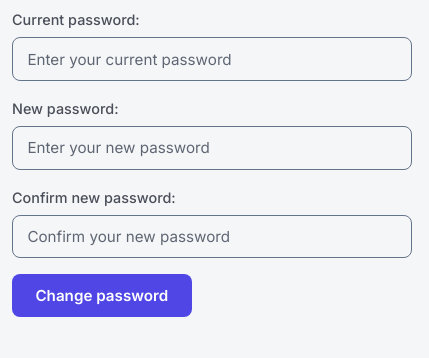
it: ChangePasswordForm › client-side validation › keeps showing a stale confirmation-mismatch error after editing the new password to actually match it
This screenshot has width=429, height=358.
Type "oldsecret" into the password field labelled "Current password:" at (212, 59), box [12, 37, 412, 81]
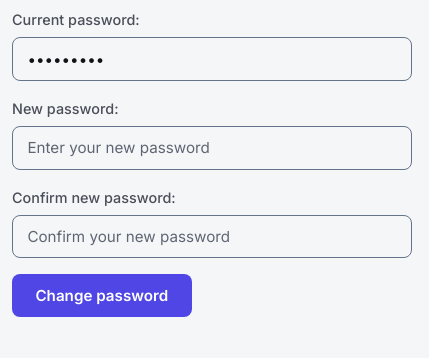
Type "firstvalue" into the password field labelled "New password:" at (212, 148), box [12, 126, 412, 170]
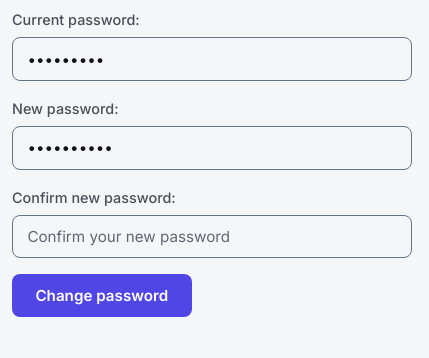
Type "secondvalue" into the password field labelled "Confirm new password:" at (212, 237), box [12, 215, 412, 258]
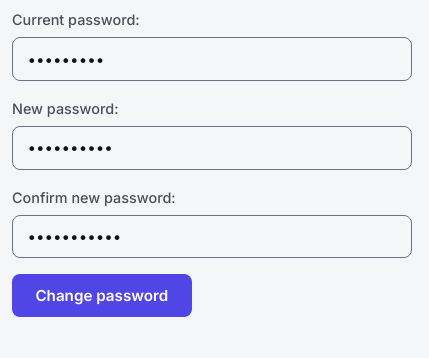
Click the button "Change password" at (102, 296), box [12, 274, 192, 317]
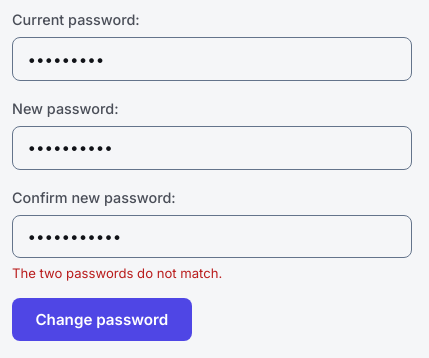
Type "secondvalue" into the password field labelled "New password:" at (212, 148), box [12, 126, 412, 170]
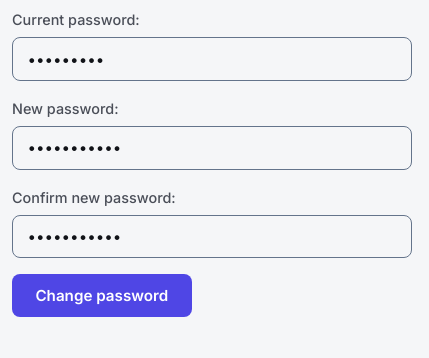
expect the text "The two passwords do not match." is gone: met
